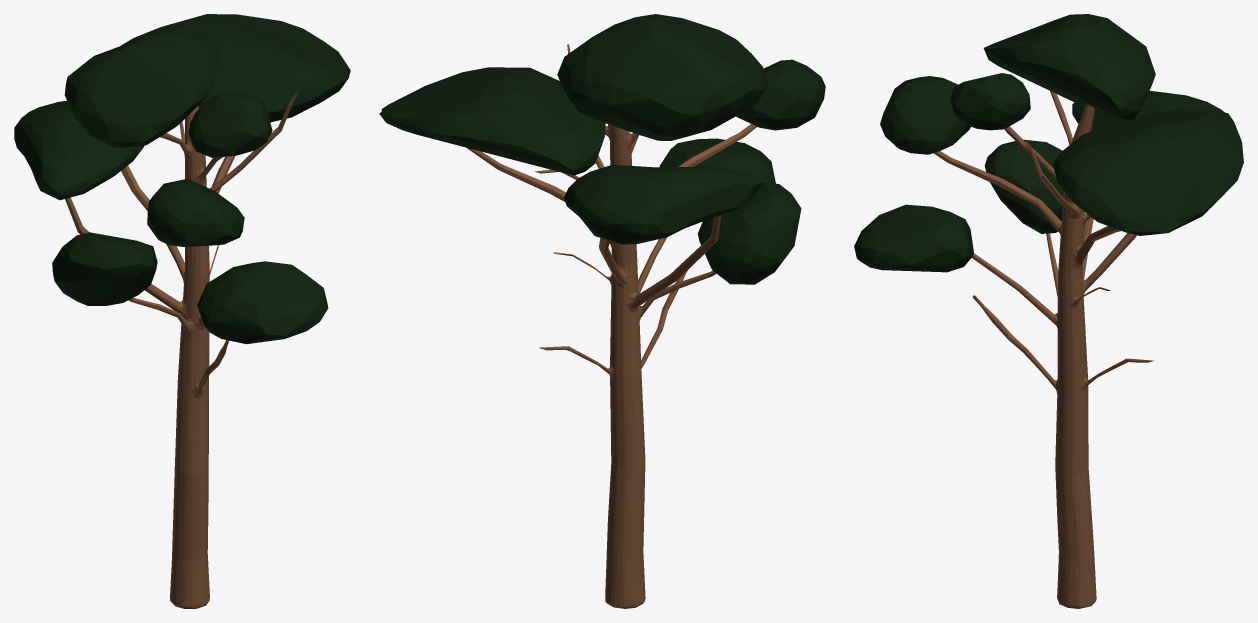
File: SM_tree_large_01.fbx
The picture shows the model from 3 angles, left to right: view 1: azimuth 30°, elevation 25°; view 2: azimuth 150°, elevation 25°; view 3: azimuth 270°, elevation 25°; orthographic projection. The views are drawn at different scales.
Visible parts, largest first — view 1: Object018; view 2: Object018; view 3: Object018.
Boxes of the visible parts, x1=… form: Object018: x1=14, y1=14, x2=350, y2=608; Object018: x1=379, y1=14, x2=825, y2=608; Object018: x1=854, y1=14, x2=1243, y2=608.
Bounding box in the file's own units: 310 × 312 × 497.
